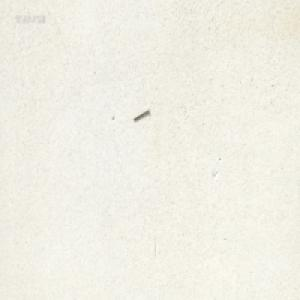Bolt: (133, 107, 149, 121)
